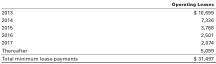table: (0, 0, 212, 60)
table column: (0, 0, 123, 60), (123, 0, 212, 60)
table column header: (0, 0, 212, 7)
table row: (0, 7, 212, 15), (0, 15, 212, 23), (0, 30, 212, 38), (0, 45, 212, 53), (0, 0, 212, 7), (0, 23, 212, 30), (0, 38, 212, 45), (0, 53, 212, 60)
